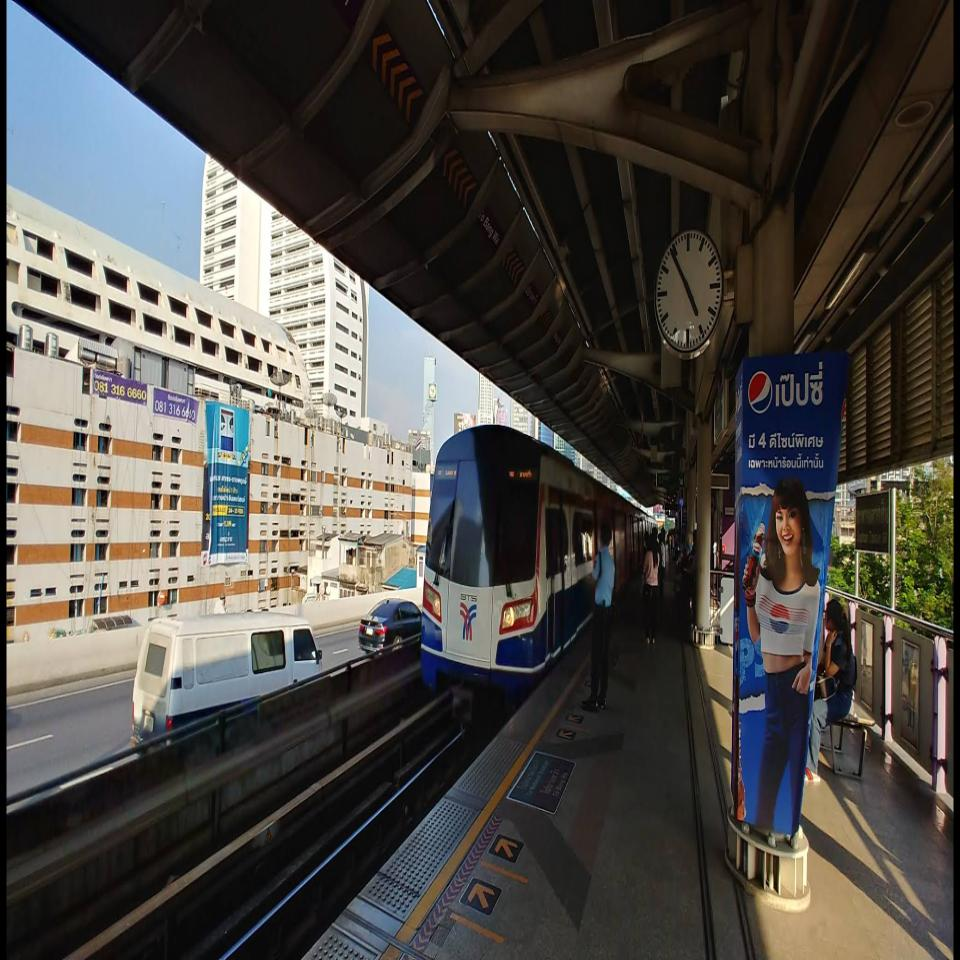signage: (854, 488, 892, 556)
